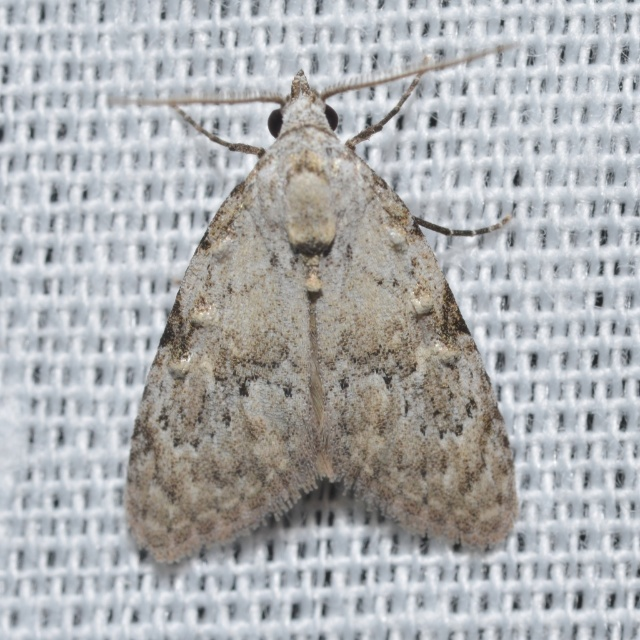Moths and butterflies: (109, 38, 525, 567)
